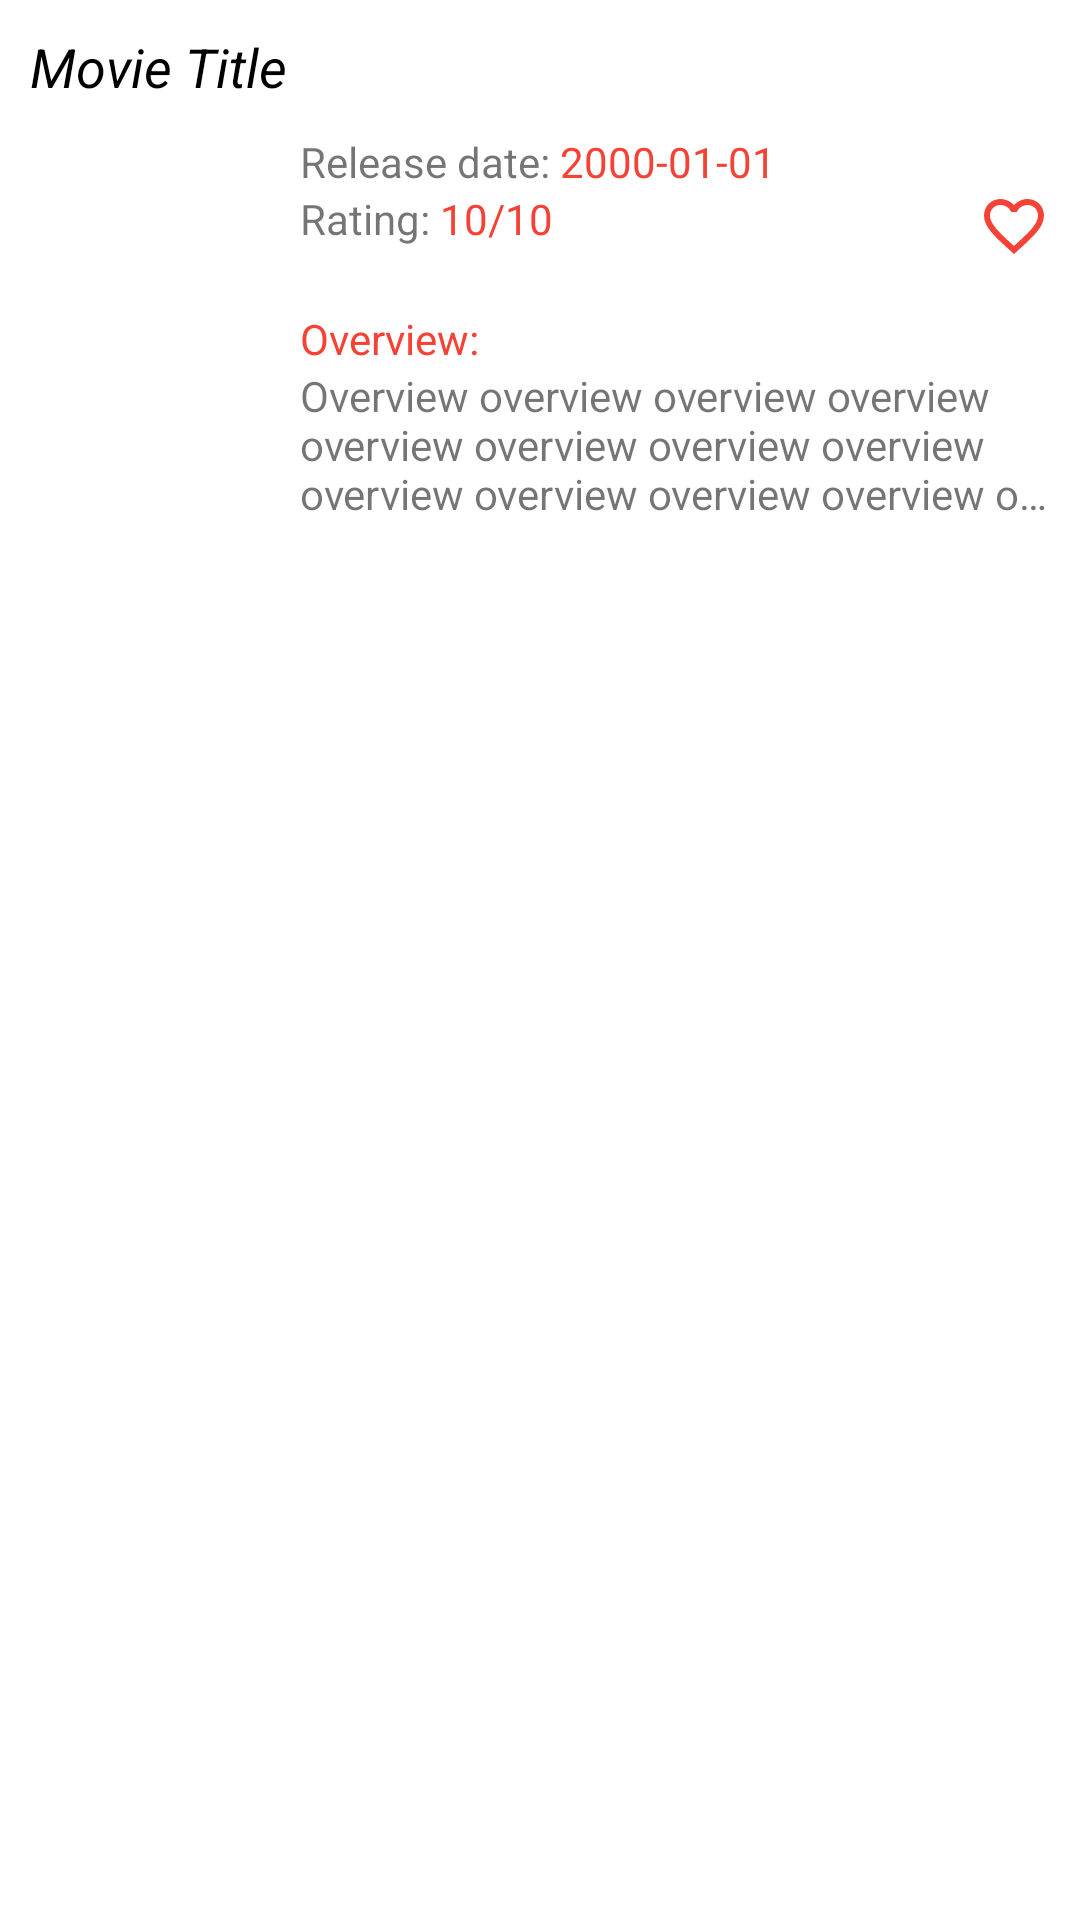

Named icons in this screenshot (1080×1920) and their bounding boxes, (x1, y1, x2, y2):
favorite border: (984, 199, 1044, 254)
